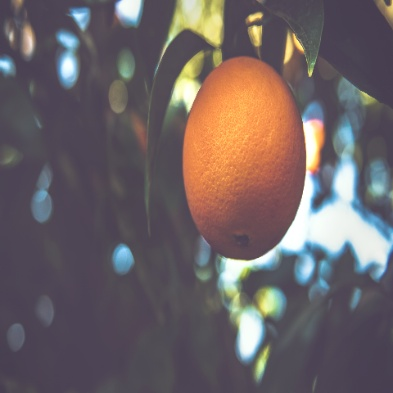orange: (170, 53, 332, 268)
